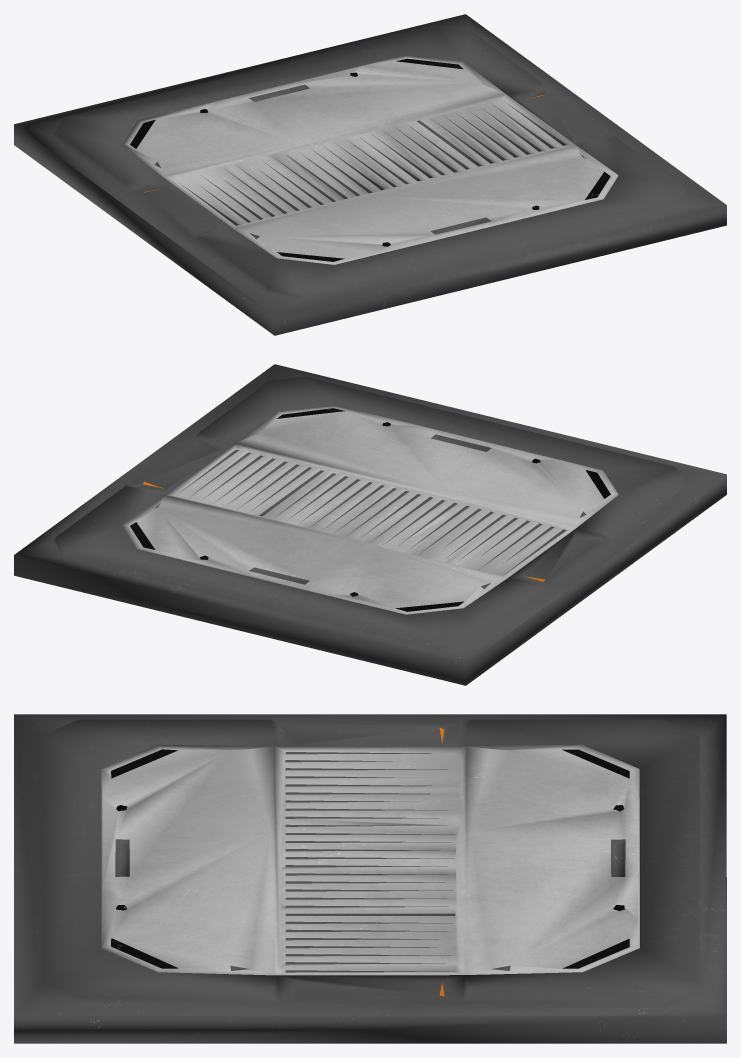
The model's file is wall_panel_v5.glb.
3 renders of one model, top to bottom at view 1: azimuth 30°, elevation 25°; view 2: azimuth 150°, elevation 25°; view 3: azimuth 270°, elevation 25°, orthographic. The views are drawn at different scales.
Parts seen in each view (by area): view 1: Sci-Fi Floor Panel; view 2: Sci-Fi Floor Panel; view 3: Sci-Fi Floor Panel.
Boxes of the visible parts, <box> form: Sci-Fi Floor Panel: <box>14,14,726,335</box>; Sci-Fi Floor Panel: <box>14,364,726,685</box>; Sci-Fi Floor Panel: <box>14,714,726,1043</box>.
Bounding box in the file's own units: 2 × 0.113 × 2.
Materials: 4 (4 with a texture image).
